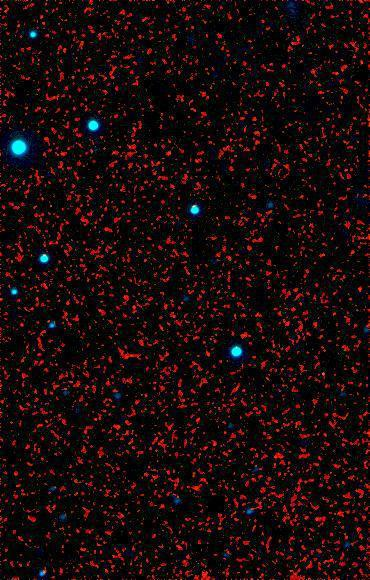star: (307, 356, 337, 386)
